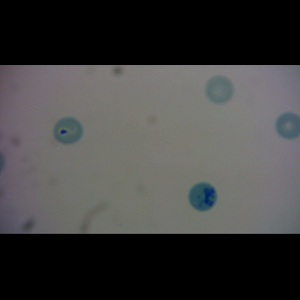aggregate reticulocyte: (187, 182, 218, 212)
erythrocyte: (52, 116, 84, 145), (204, 74, 235, 103), (275, 110, 300, 140)
